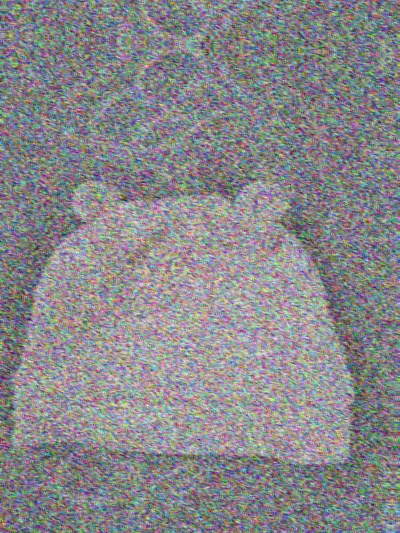Hat: (14, 155, 376, 482)
